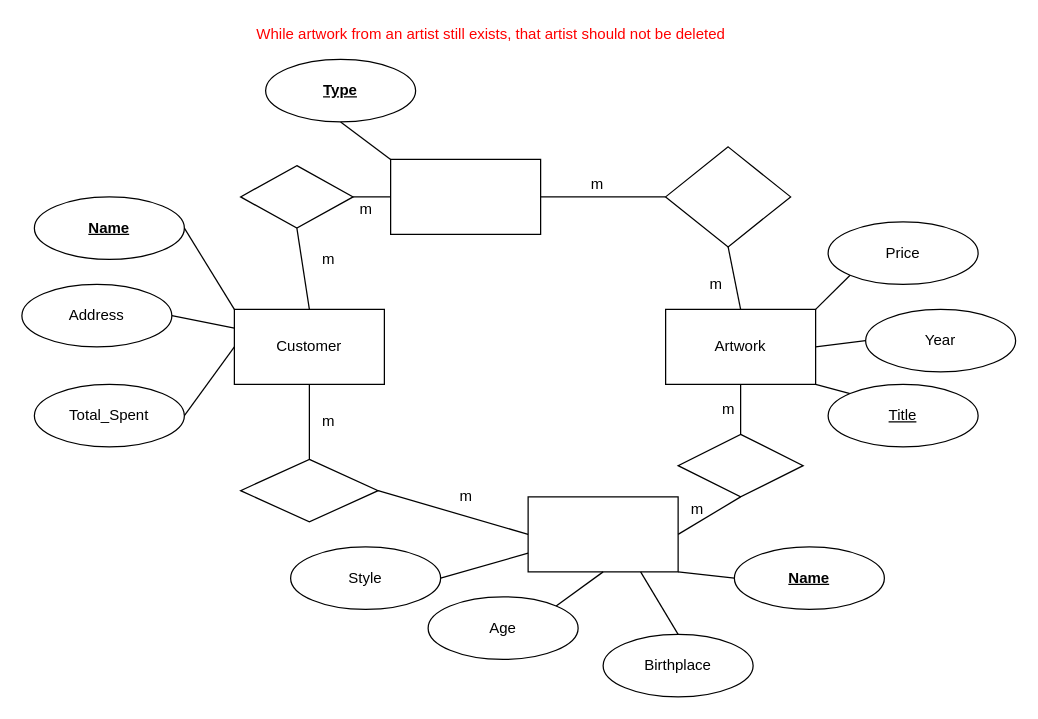
Some shapes in this 1038 by 719 pixel diagram are drawn without their labels. Each missing label, with the centre of its shape:
"Artist" goes at (602,534).
"ArtTypes" goes at (465,196).
"Creates" goes at (740,465).
"LikesArtist" goes at (308,490).
"LikesTypes" goes at (296,196).
"Of_Type" goes at (727,196).
